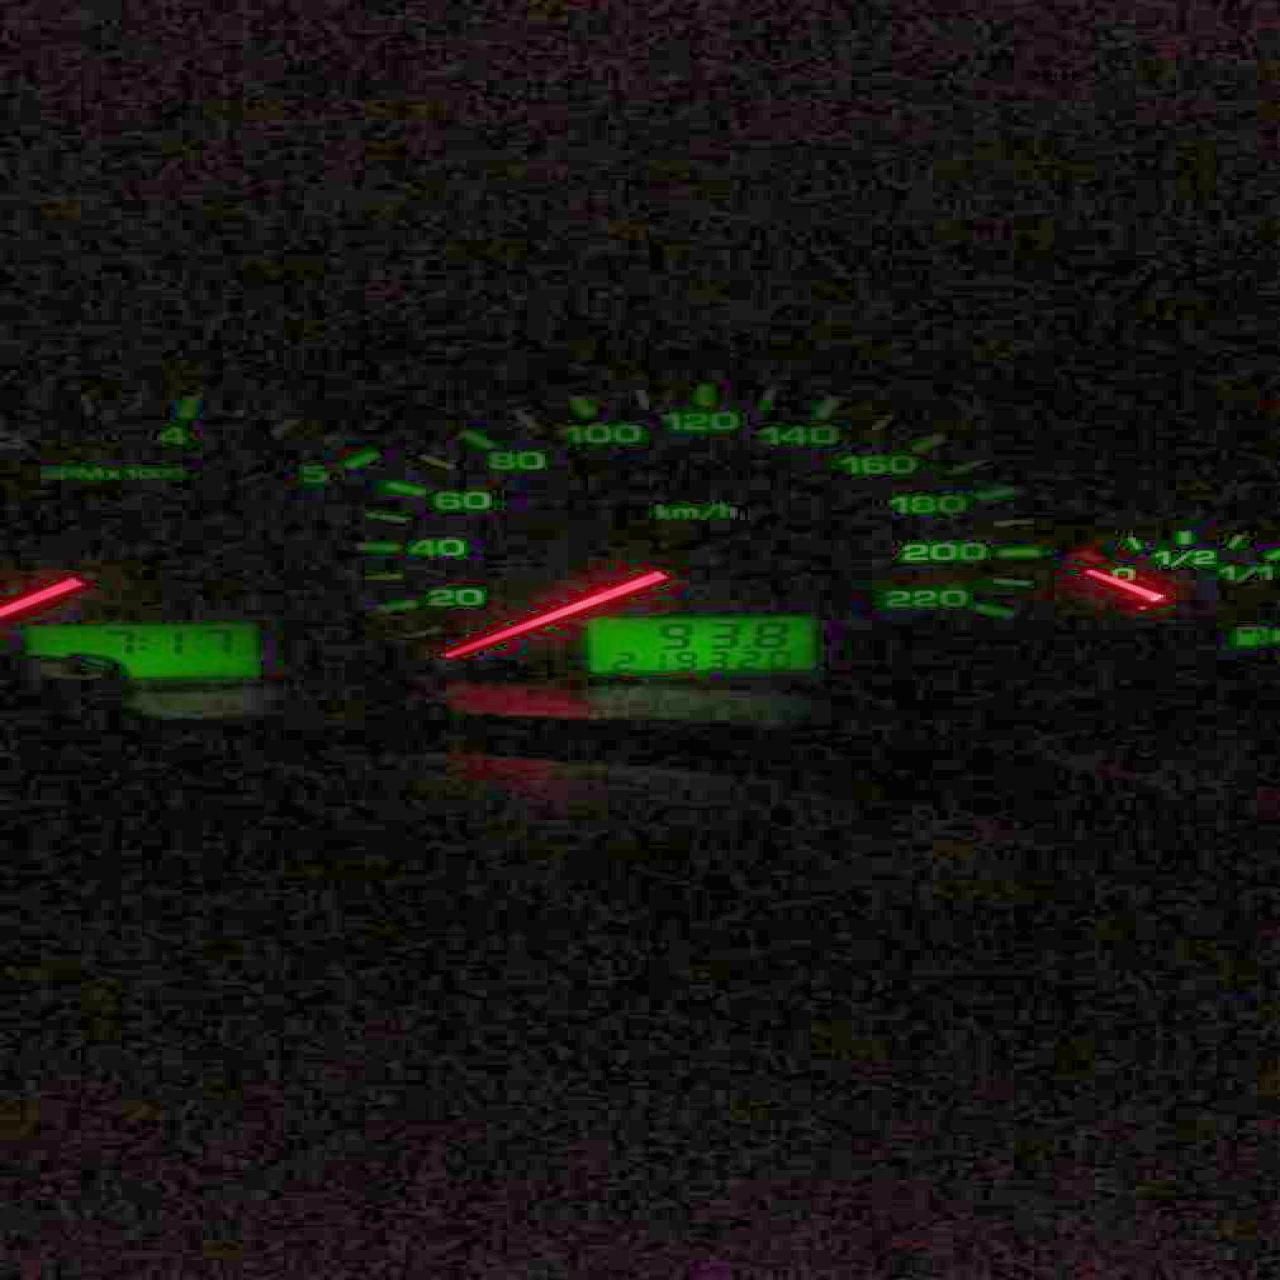-: (740, 641, 750, 647)
0: (768, 649, 794, 669)
1: (654, 651, 667, 670)
2: (735, 649, 761, 669), (611, 651, 636, 669)
3: (704, 620, 737, 648), (702, 649, 728, 670)
8: (753, 620, 788, 648)
9: (656, 621, 689, 648), (672, 649, 697, 670)
odometer: (584, 614, 818, 674)
